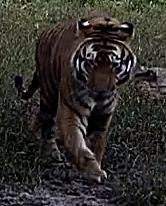tiger: (22, 12, 156, 181)
